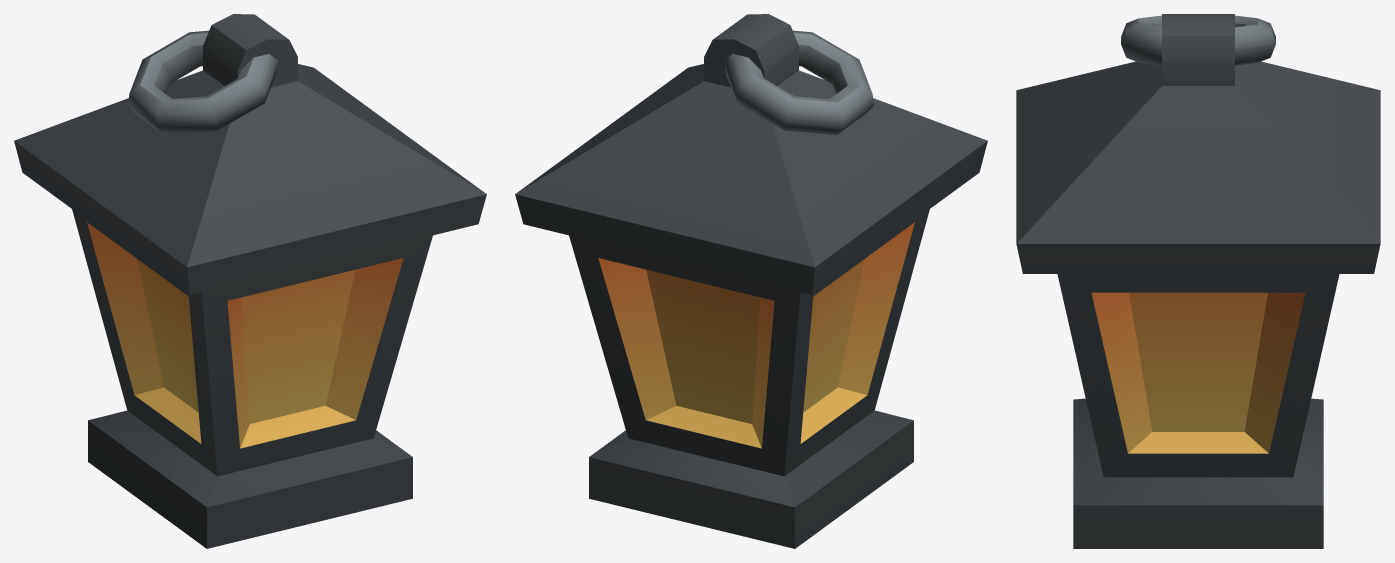
The model's file is lantern_standing.glb.
3 renders of one model, left to right at view 1: azimuth 30°, elevation 25°; view 2: azimuth 150°, elevation 25°; view 3: azimuth 270°, elevation 25°, orthographic. The views are drawn at different scales.
Parts seen in each view (by area): view 1: lantern_standing; view 2: lantern_standing; view 3: lantern_standing.
Part boxes in pixels (x1,y1,x2,y2): lantern_standing: [14, 14, 486, 548]; lantern_standing: [515, 14, 987, 548]; lantern_standing: [1016, 14, 1380, 548].
Bounding box in the file's own units: 0.64 × 0.9252 × 0.64.
